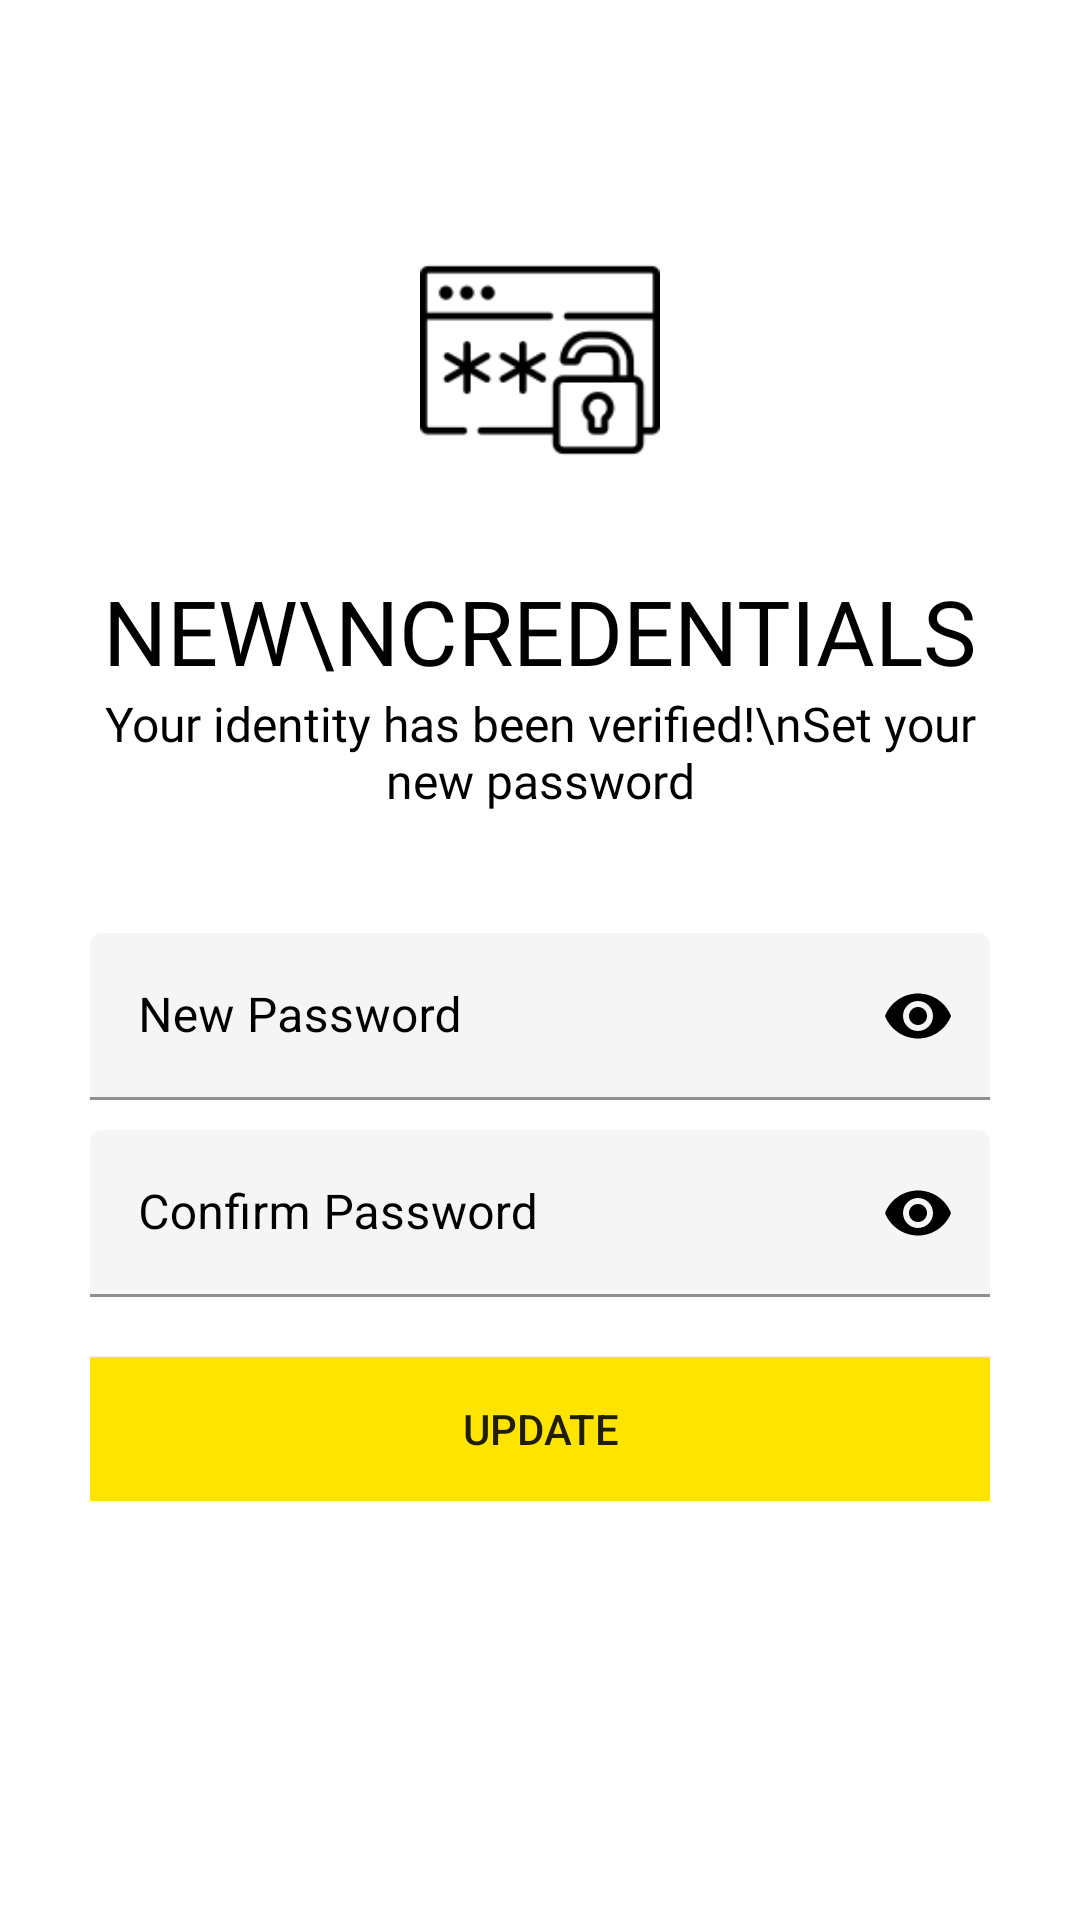

Where to tap for icons on this 1080px x 1920px app screen, as (x=x, y=y):
update password: (x=540, y=360)
